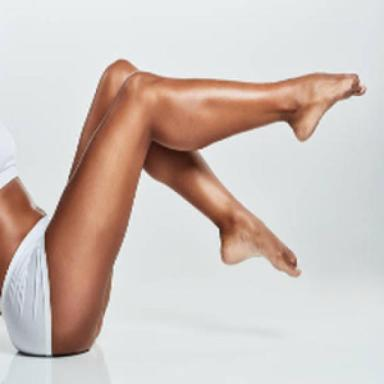normal skin: (45, 60, 366, 354), (0, 179, 43, 282)
